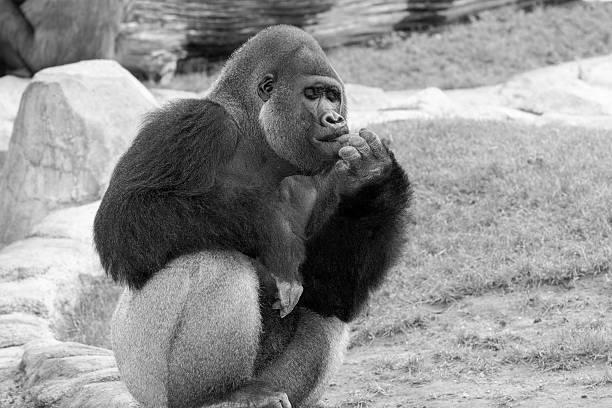gorille_Autres: (98, 17, 430, 404)
